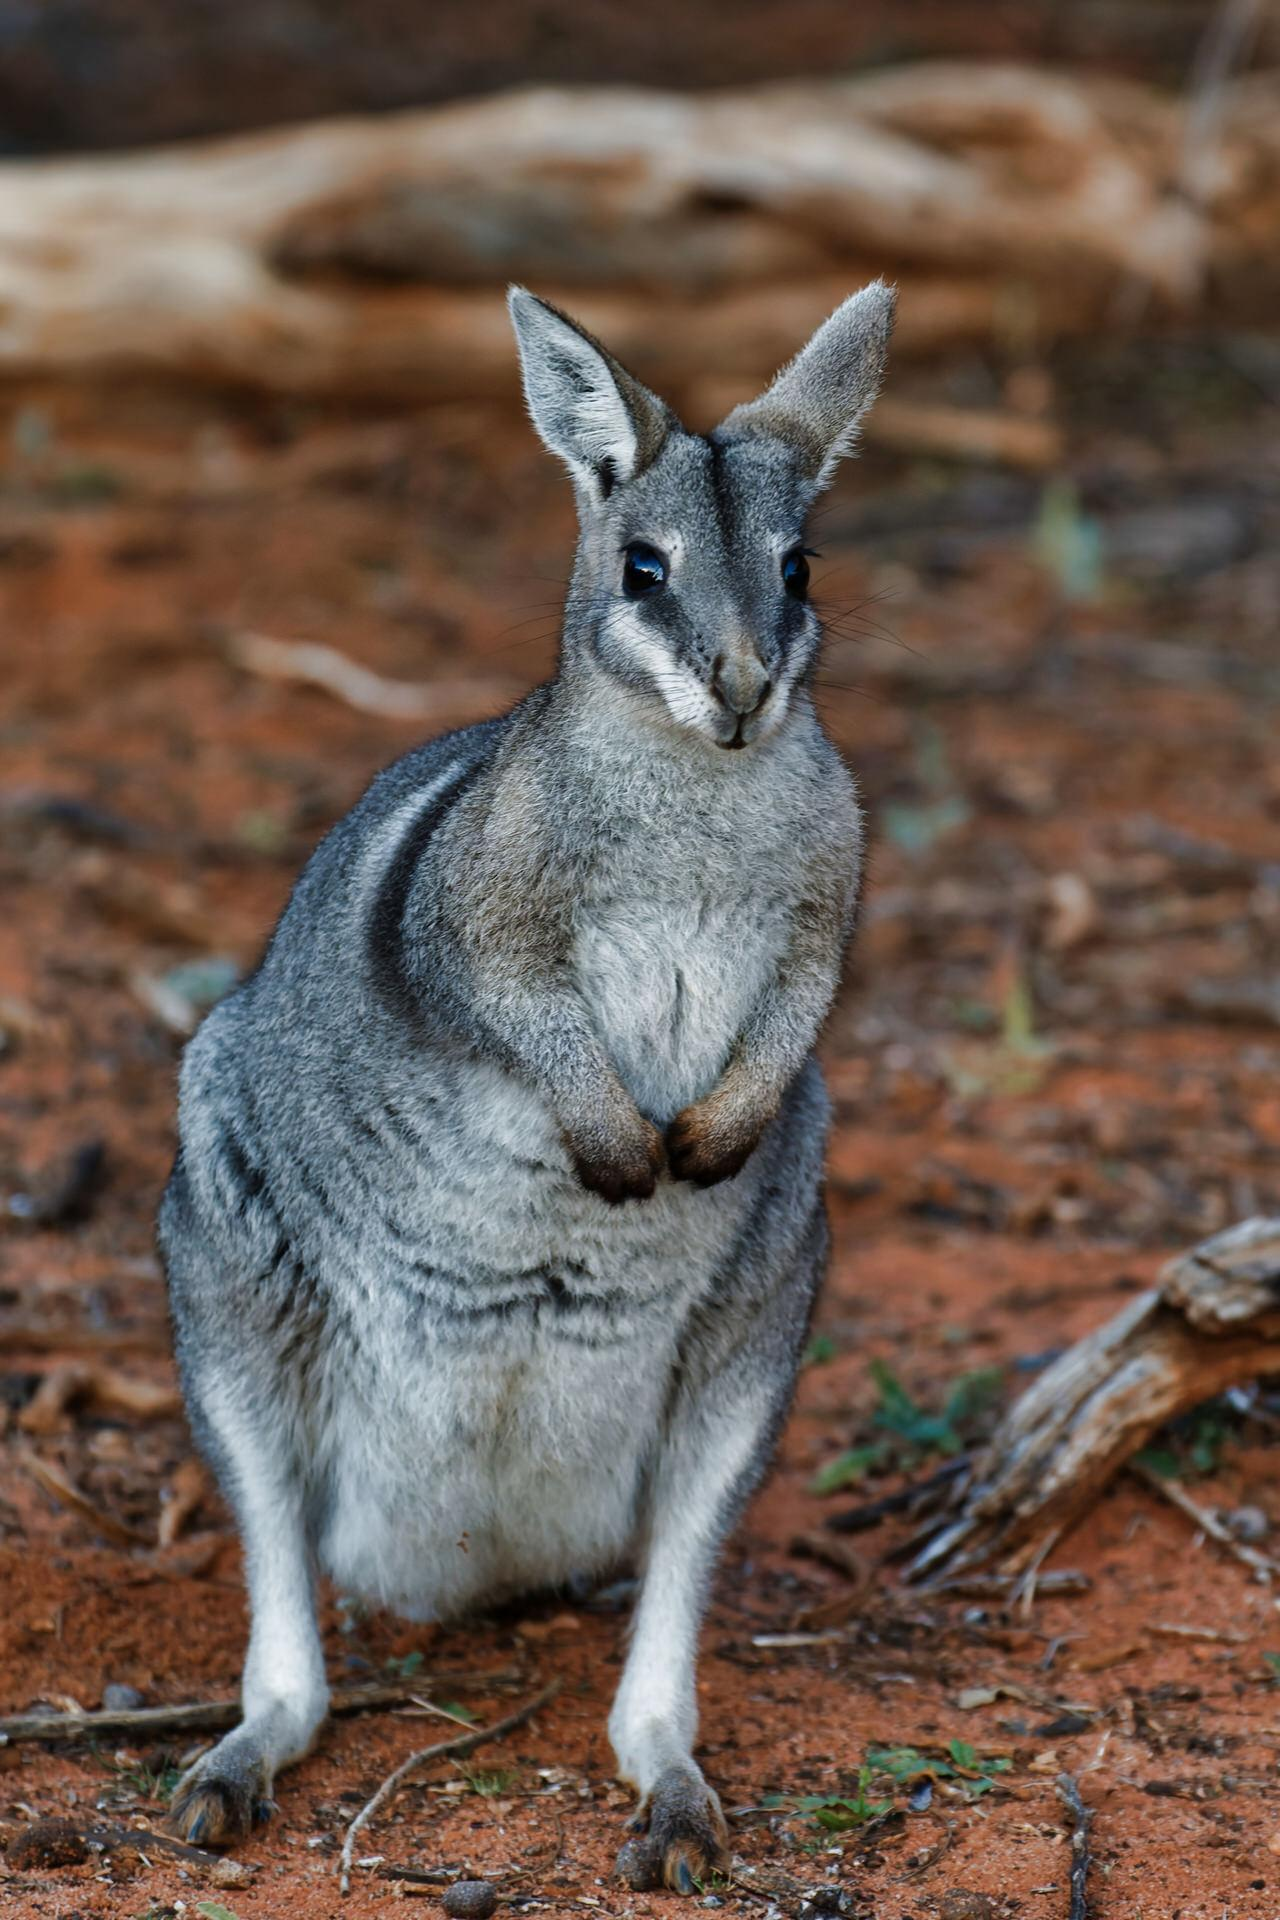Bridled-nail-tail wallaby: (160, 276, 914, 1883)
